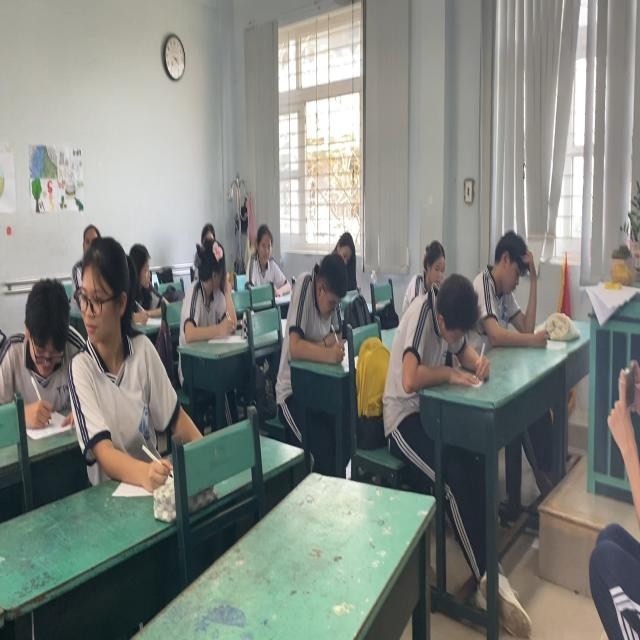cheating: (69, 223, 168, 457), (177, 216, 236, 340)
not_cheating: (399, 247, 487, 399), (0, 272, 84, 422), (477, 223, 551, 344), (294, 254, 354, 360), (242, 208, 290, 288)
